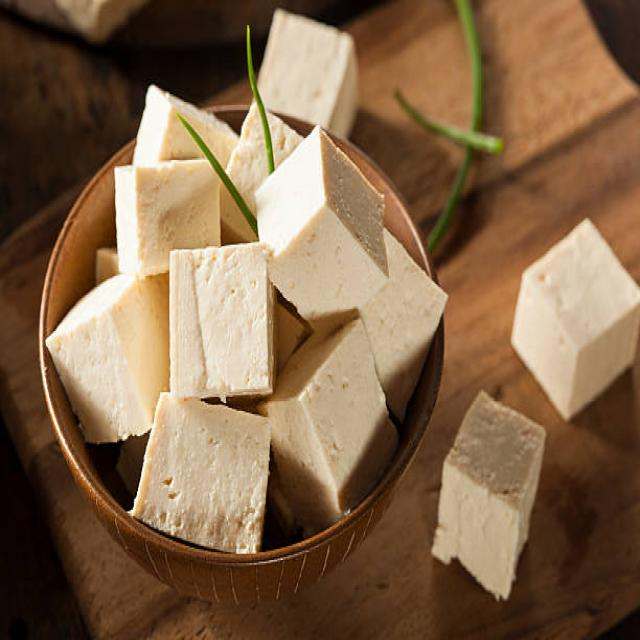tofu: (517, 218, 640, 417), (275, 128, 391, 328), (440, 395, 546, 603), (142, 396, 274, 548), (165, 243, 279, 405), (57, 278, 147, 454), (291, 328, 372, 515), (270, 8, 363, 128), (116, 156, 168, 289)
